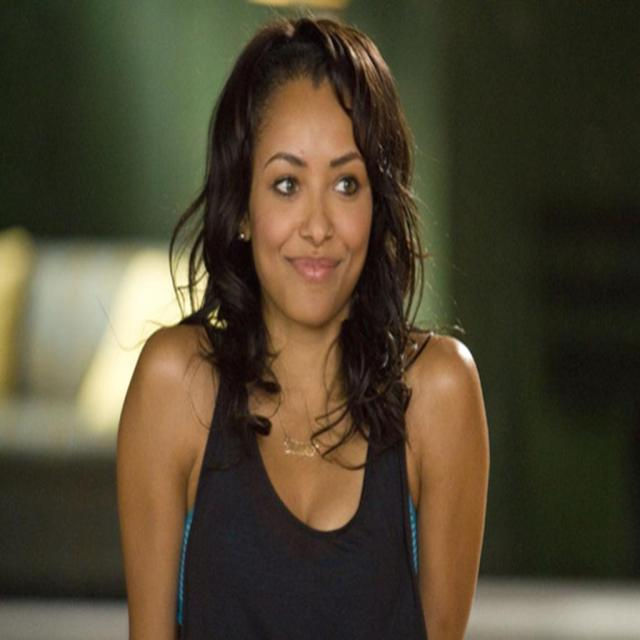Face: (246, 79, 383, 328)
